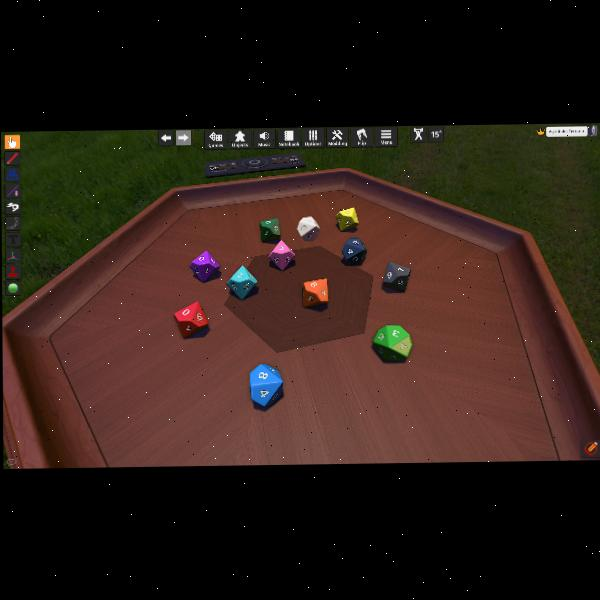d10: (250, 362, 284, 406), (372, 324, 411, 361), (174, 301, 209, 337), (228, 264, 258, 299), (189, 249, 219, 281), (268, 239, 296, 271), (382, 261, 410, 291), (302, 278, 329, 307), (341, 237, 366, 263), (296, 215, 319, 240), (337, 207, 359, 231), (261, 217, 281, 241)
